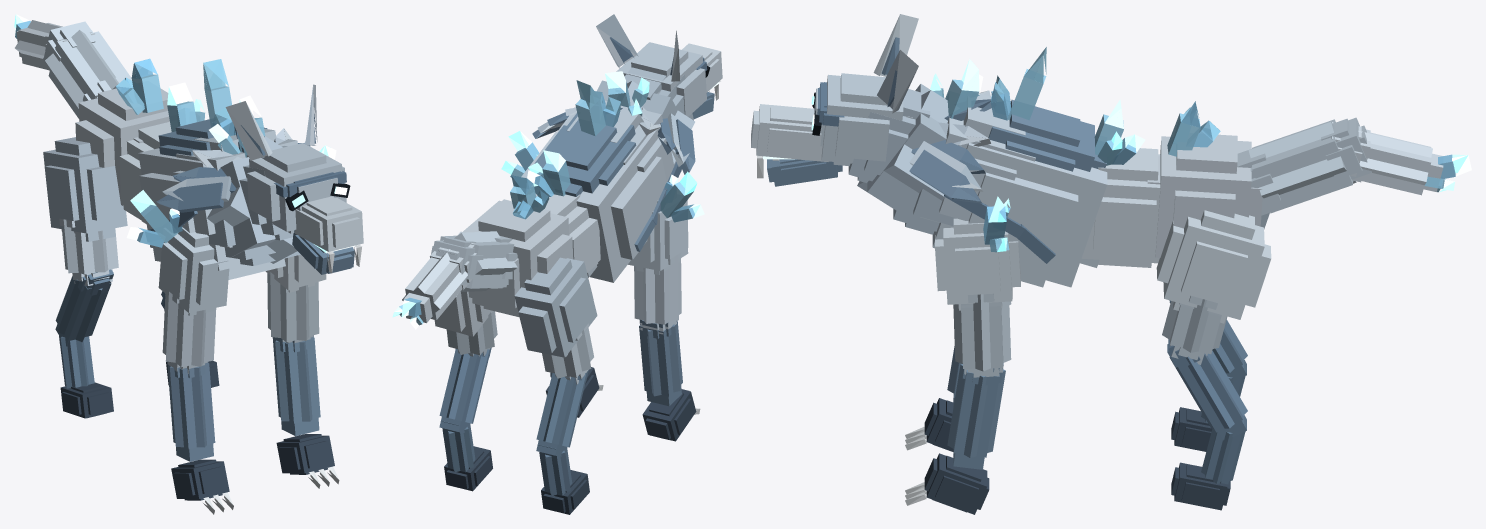
3 views of the same model, side by side, from view 1: azimuth 30°, elevation 25°; view 2: azimuth 150°, elevation 25°; view 3: azimuth 270°, elevation 25° (orthographic). The views are drawn at different scales.
Parts seen in each view (by area): view 1: RimeHound; view 2: RimeHound; view 3: RimeHound.
Part boxes in pixels (<box>): RimeHound: <box>14,14,363,514</box>; RimeHound: <box>392,14,722,514</box>; RimeHound: <box>751,14,1471,514</box>.
Size of the model in its own units: 0.5752 by 1.05 by 1.54.
